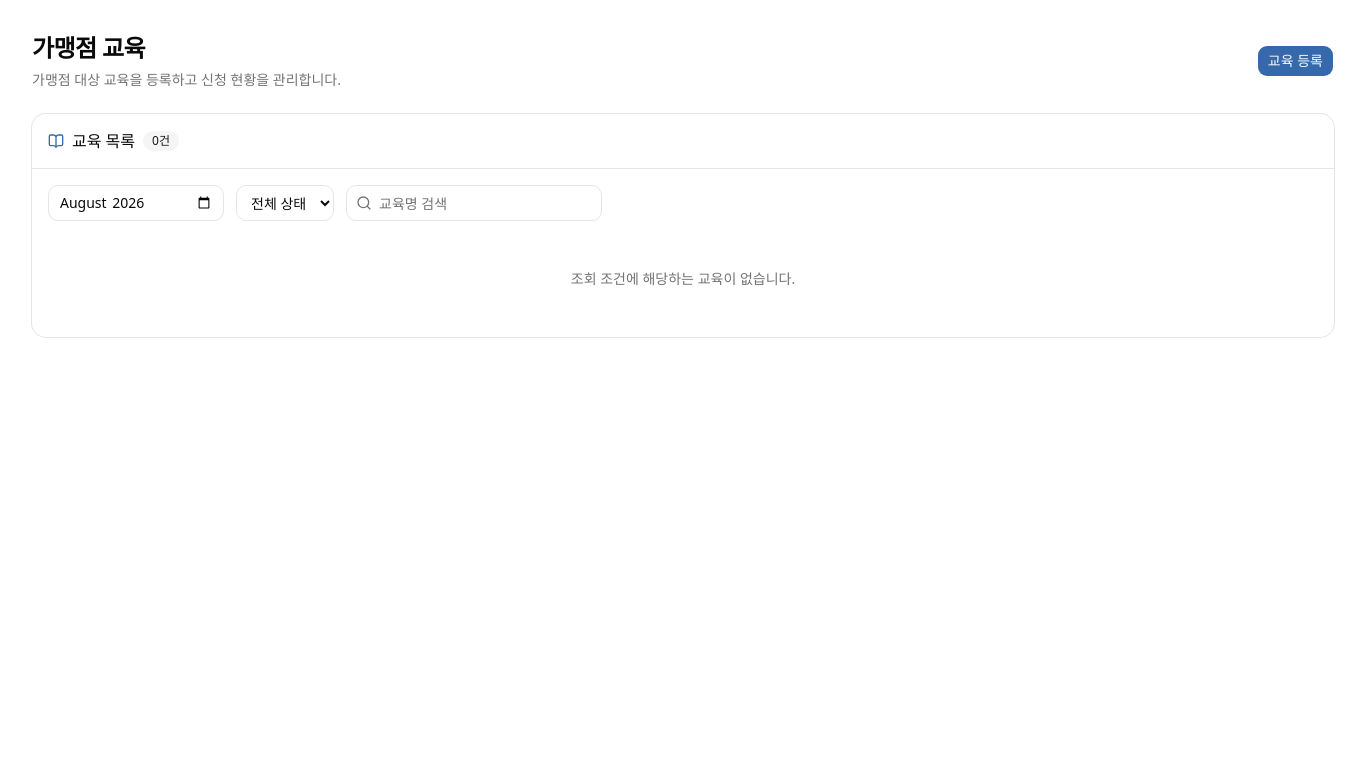
FranchiseEducationCalendarPage - 라우팅 › [교육 등록] 버튼 클릭 시 페이지 이동 없이 등록 모달이 열리고 비활성 안내가 표시된다
This screenshot has width=1366, height=768.
Click the button "교육 등록" at (1295, 61), box 1257,45 -> 1334,77
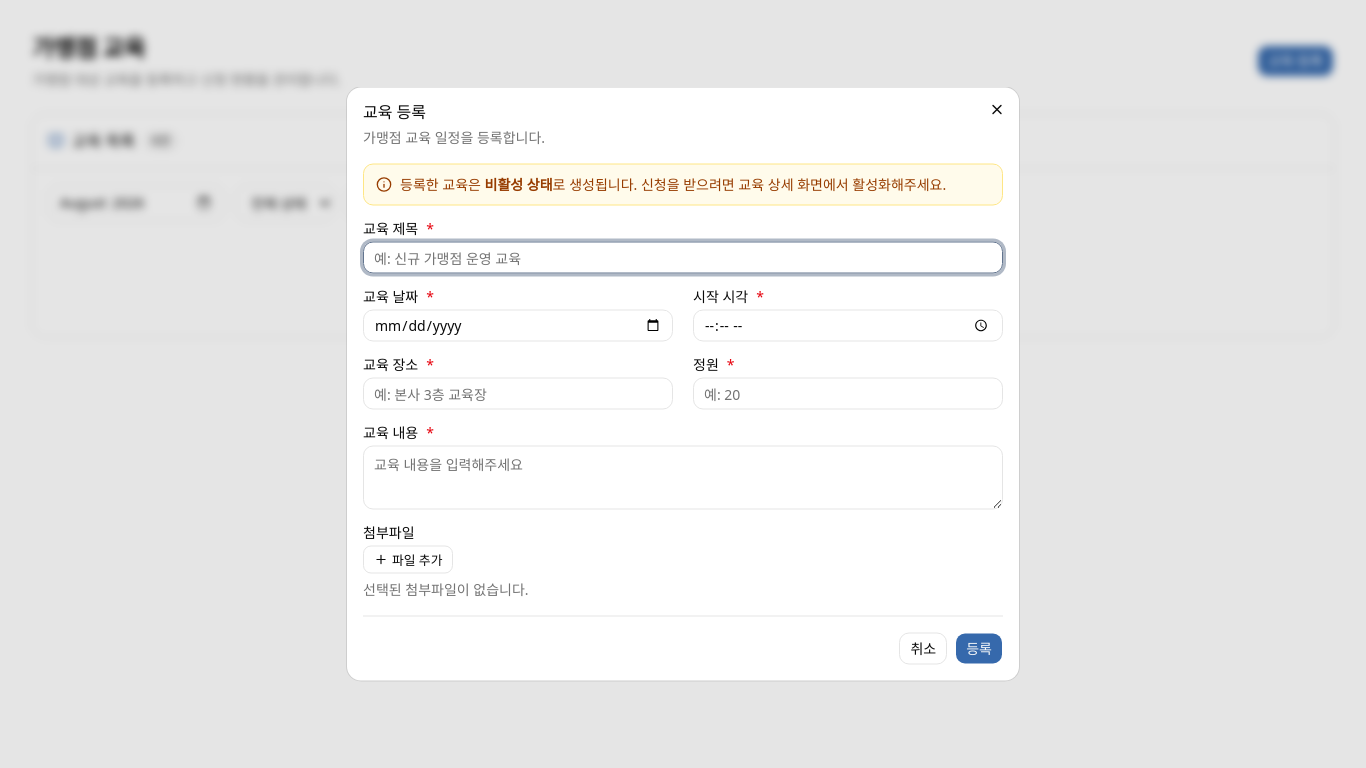
Now the heading "교육 등록" is shown, box 363,100 -> 426,122
Now the text "비활성 상태" is shown, box 485,174 -> 553,194
Now the field labelled "교육 제목 *" is shown, box 363,242 -> 1003,274
